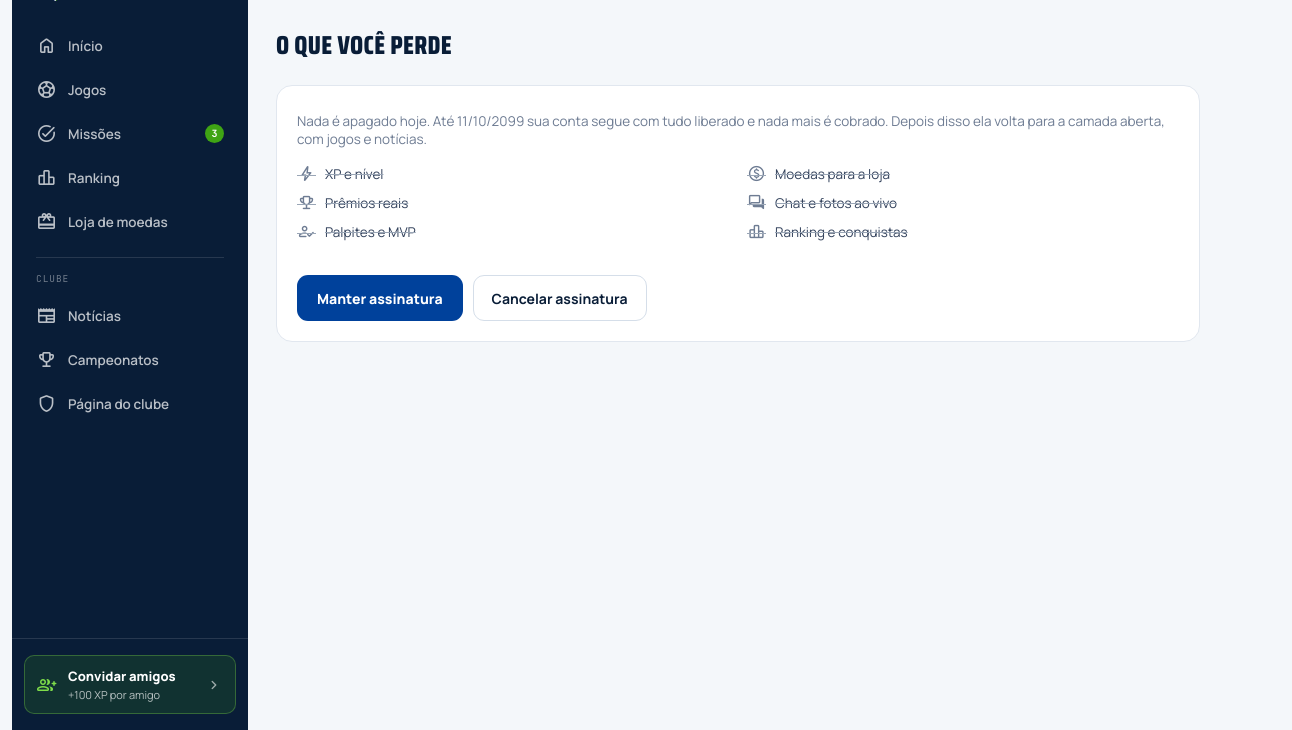
gestão da assinatura do web app › "Manter assinatura" volta sem cancelar
Click the link "Manter assinatura" at [380, 298], box [297,275,463,321]
(page scrolled)
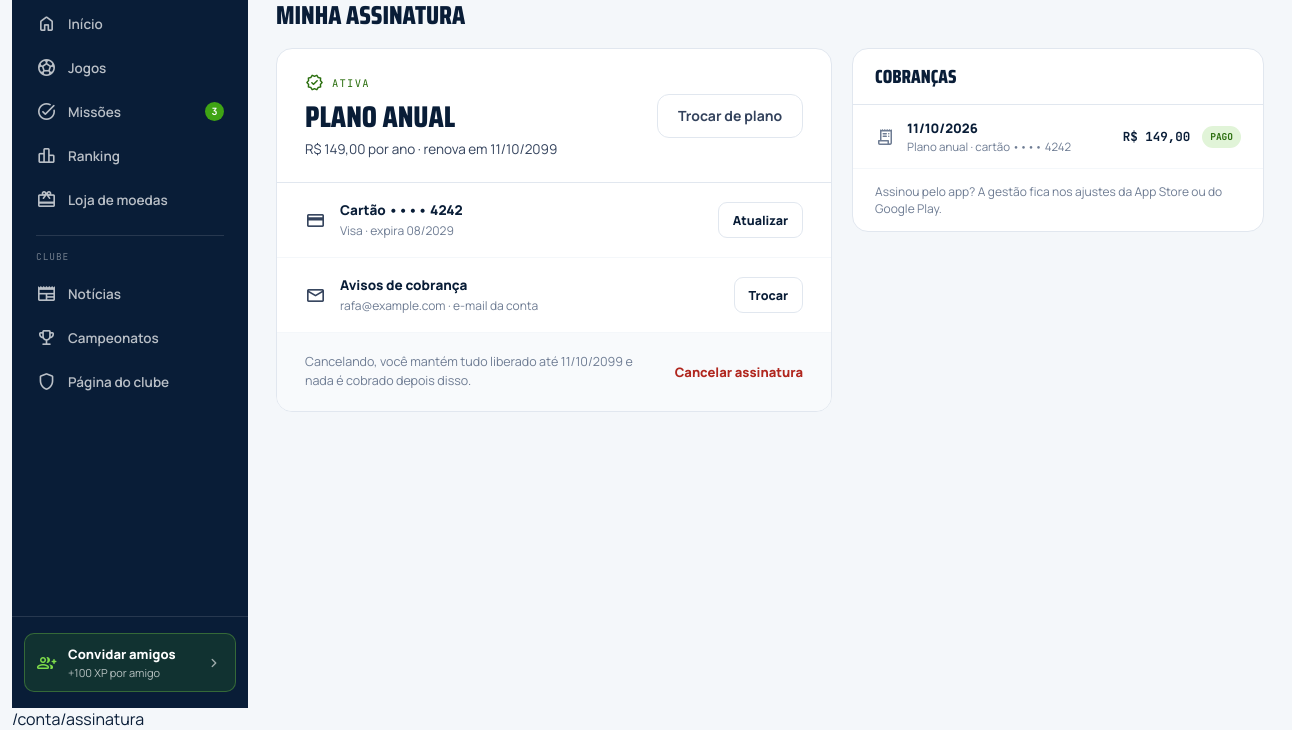
Now the text with test id "local" reads "/conta/assinatura", box [12,708,144,729]
